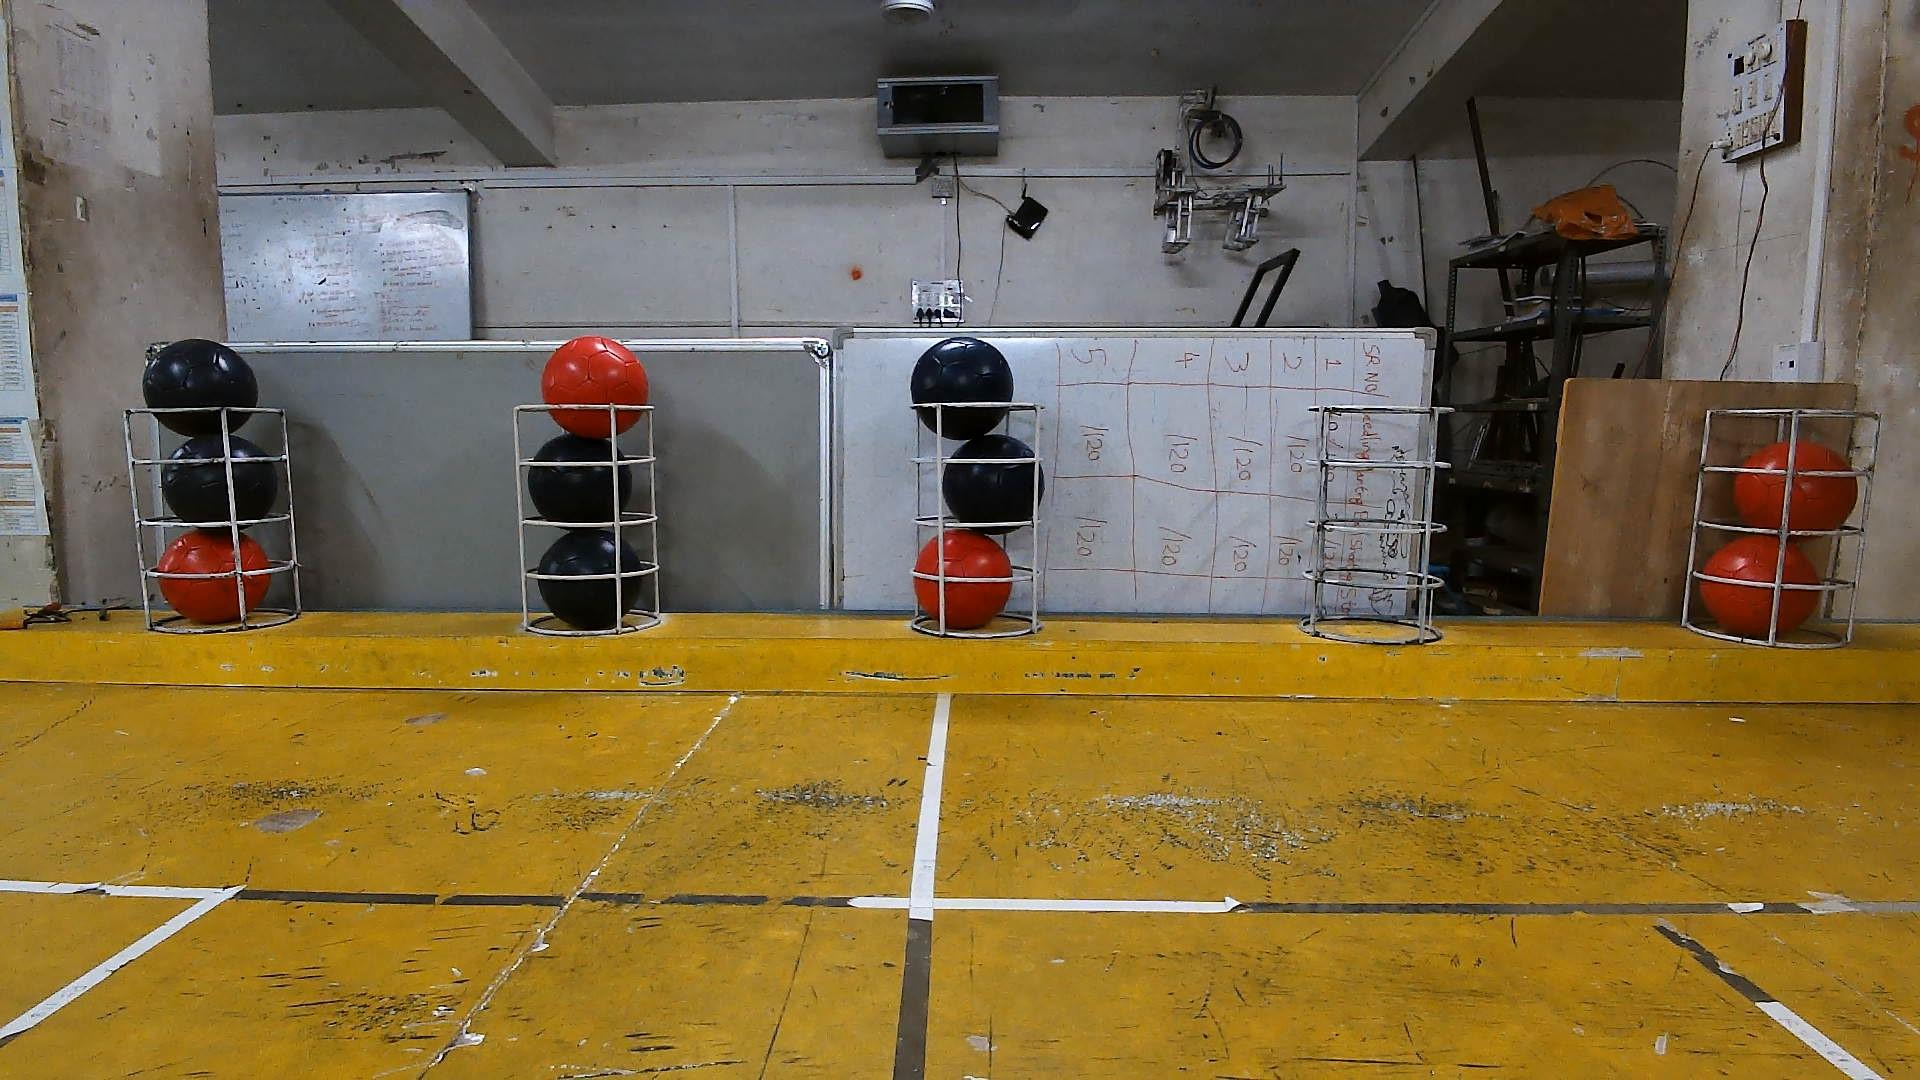dhoka: (142, 339, 258, 436), (161, 435, 277, 529), (911, 338, 1013, 443), (541, 529, 645, 630), (945, 435, 1046, 533), (524, 435, 629, 524)
laale: (1702, 537, 1822, 637), (1730, 446, 1858, 539), (157, 529, 270, 626), (542, 339, 646, 444), (915, 529, 1013, 630)
